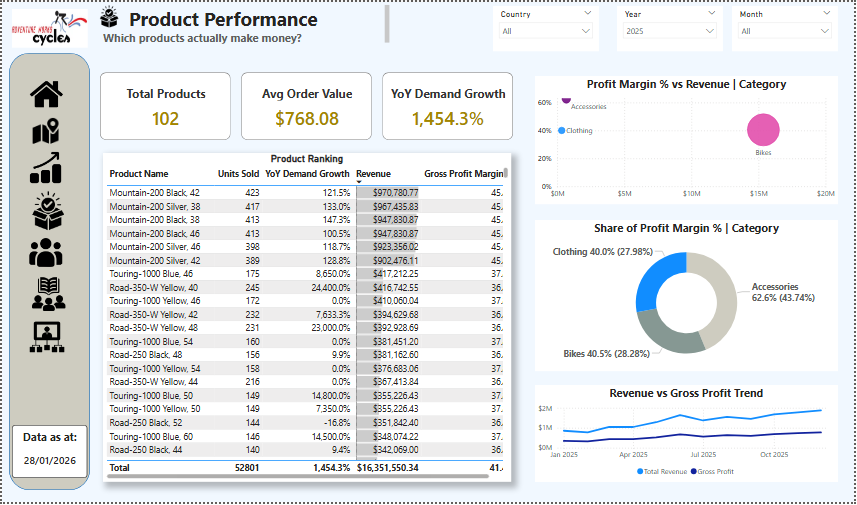

The page's visual inventory and layout, read from the dashboard file:
{"tool":"powerbi","page":{"name":"Product Performance","canvas":[1450,850],"ordinal":6},"visuals":[{"type":"textbox","box":[166.1,0,496.8,75.8],"z":0},{"type":"slicer","fields":{"Values":["DimSalesTerritory.Group Hierarchy.Country"]},"box":[834.7,6.8,180.2,76.5],"z":1000},{"type":"slicer","fields":{"Values":["DimDate.Month"]},"box":[1241,6.8,180.2,76.5],"z":2000},{"type":"slicer","fields":{"Values":["DimDate.Year"]},"box":[1045.5,6.8,180.2,76.5],"z":3000},{"type":"image","box":[11.3,6.5,138.7,75.8],"z":4000},{"type":"image","box":[149.6,0,64.6,49.3],"z":5000},{"type":"cardVisual","fields":{"Data":["_Measures.Total Products","_Measures.Avg Order Value","_Measures.Total Quantity YoY %"]},"box":[166.6,115.6,702.1,119],"z":6000},{"type":"tableEx","title":"Product Ranking","fields":{"Values":["DimProduct.Categorization.Product Name","_Measures.Total Quantity","_Measures.Total Quantity YoY %","_Measures.Total Revenue","_Measures.Profit Margin %"]},"box":[171.7,256.7,693.6,559.3],"z":7000},{"type":"scatterChart","title":"Profit Margin % vs Revenue | Category","fields":{"Y":["_Measures.Profit Margin %"],"Size":["_Measures.Total Revenue"],"X":["_Measures.Total Revenue"],"Series":["DimProduct.Categorization.Category"]},"box":[906.1,125.8,515.1,217.6],"z":8000},{"type":"donutChart","title":"Share of Profit Margin % | Category","fields":{"Category":["DimProduct.Categorization.Category","DimProduct.Categorization.SubCategory"],"Y":["_Measures.Profit Margin %"]},"box":[906.1,370.6,515.1,256.7],"z":9000},{"type":"lineChart","title":"Revenue vs Gross Profit Trend","fields":{"Y":["_Measures.Total Revenue","_Measures.Gross Profit"],"Category":["DimDate.Year-Month"]},"box":[906.1,651.1,515.1,164.9],"z":10000},{"type":"shape","box":[11.9,86.7,137.7,742.9],"z":11000},{"type":"image","box":[39.1,192.1,69.7,54.4],"z":12000},{"type":"image","box":[39.1,246.5,69.7,69.7],"z":13000},{"type":"image","box":[34,316.2,88.4,76.5],"z":14000},{"type":"image","box":[37.4,392.7,74.8,66.3],"z":15000},{"type":"image","box":[42.5,120.7,66.3,71.4],"z":16000},{"type":"textbox","box":[16.7,718.3,128.3,90],"z":17000},{"type":"card","fields":{"Values":["_Measures.Absolute Last Order Date"]},"box":[28.3,763.3,105,33.3],"z":18000},{"type":"image","box":[28.9,459,100.3,74.8],"z":19000},{"type":"image","box":[34,533.8,85,71.4],"z":20000}]}

Visuals, with their boxes in screenshot pixels (x1, y1, x2, y2), scaled from the page's 1450x850 canvas onto the 857x505 screenshot:
textbox: region(98, 0, 392, 45)
slicer - DimSalesTerritory.Group Hierarchy.Country: region(493, 4, 600, 49)
slicer - DimDate.Month: region(733, 4, 840, 49)
slicer - DimDate.Year: region(618, 4, 724, 49)
image: region(7, 4, 89, 49)
image: region(88, 0, 127, 29)
cardVisual - _Measures.Total Products x _Measures.Avg Order Value: region(98, 69, 513, 139)
"Product Ranking" tableEx: region(101, 153, 511, 485)
"Profit Margin % vs Revenue | Category" scatterChart: region(536, 75, 840, 204)
"Share of Profit Margin % | Category" donutChart: region(536, 220, 840, 373)
"Revenue vs Gross Profit Trend" lineChart: region(536, 387, 840, 485)
shape: region(7, 52, 88, 493)
image: region(23, 114, 64, 146)
image: region(23, 146, 64, 188)
image: region(20, 188, 72, 233)
image: region(22, 233, 66, 273)
image: region(25, 72, 64, 114)
textbox: region(10, 427, 86, 480)
card - _Measures.Absolute Last Order Date: region(17, 453, 79, 473)
image: region(17, 273, 76, 317)
image: region(20, 317, 70, 360)
